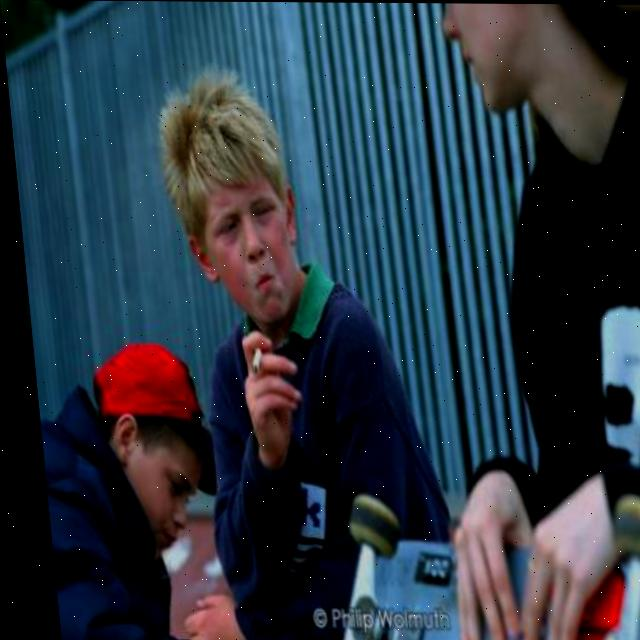cigarette: (242, 343, 260, 375)
